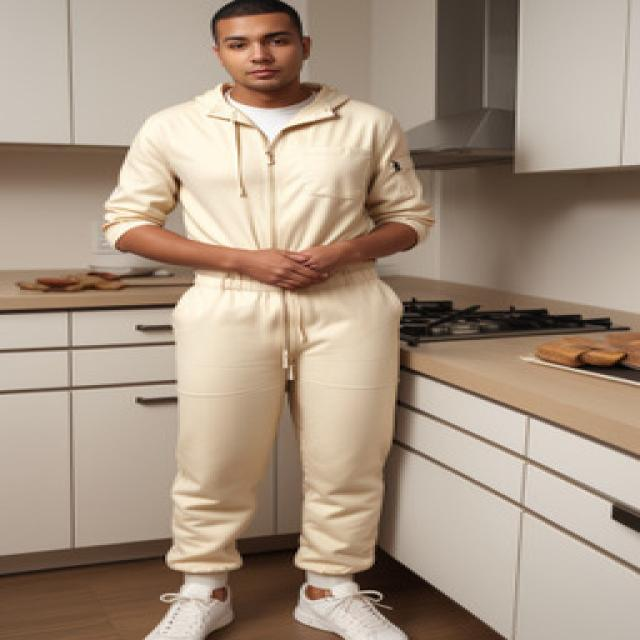Ai human 2: (98, 0, 449, 640)
